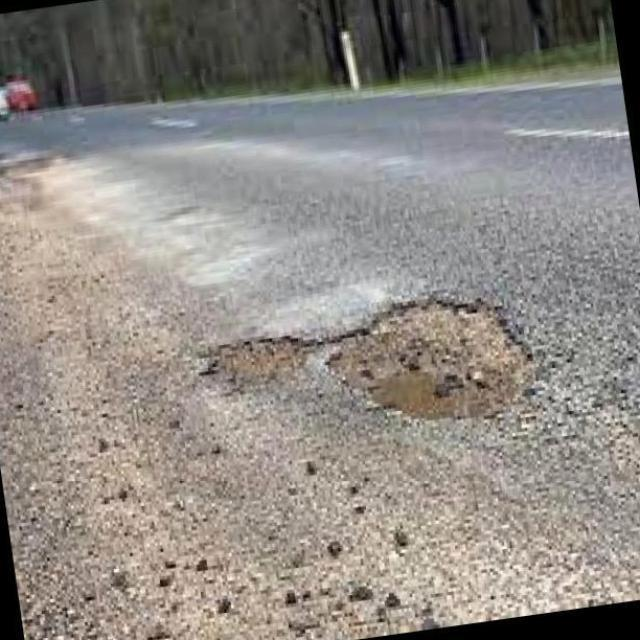pothole: (330, 289, 560, 431), (195, 332, 313, 393)
